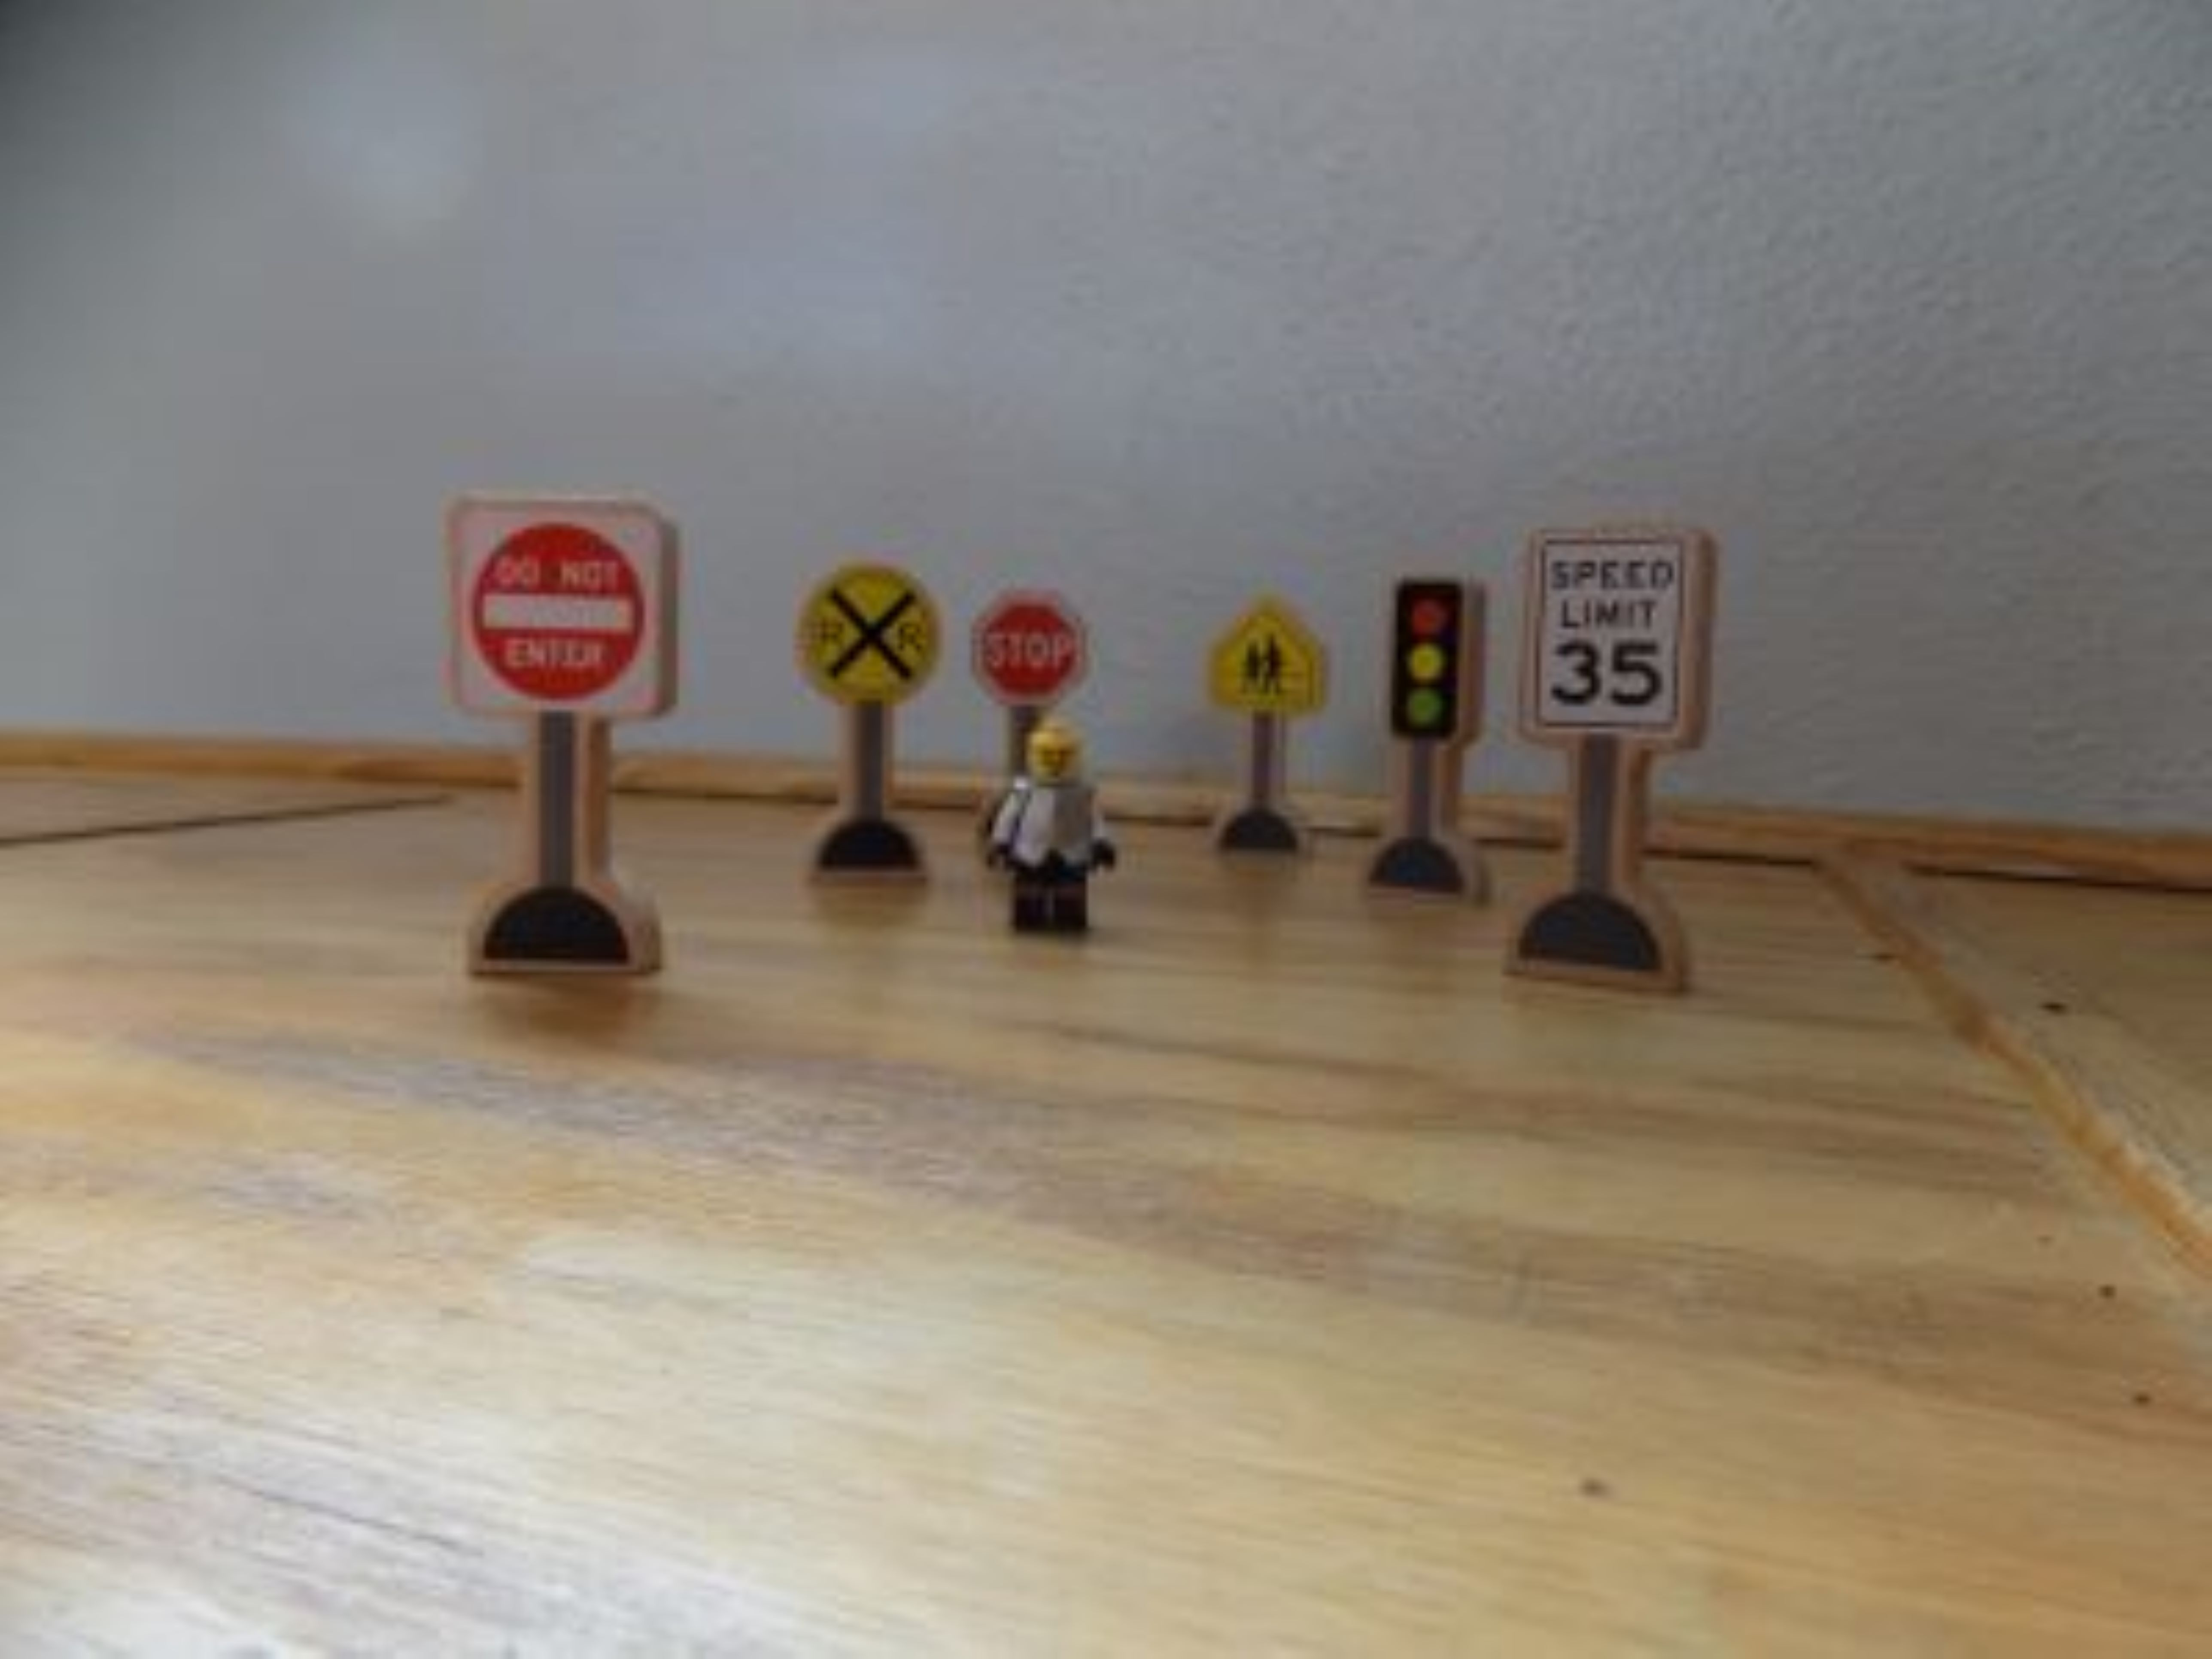Do Not Enter: (449, 498, 681, 725)
Pedestrians: (1212, 594, 1335, 720)
Person: (985, 714, 1129, 960)
Rail Road Sign: (781, 546, 957, 740)
Red Traffic Light: (1389, 572, 1495, 750)
Speed Limit 35: (1514, 519, 1715, 759)
Stop Sign: (971, 580, 1098, 708)
